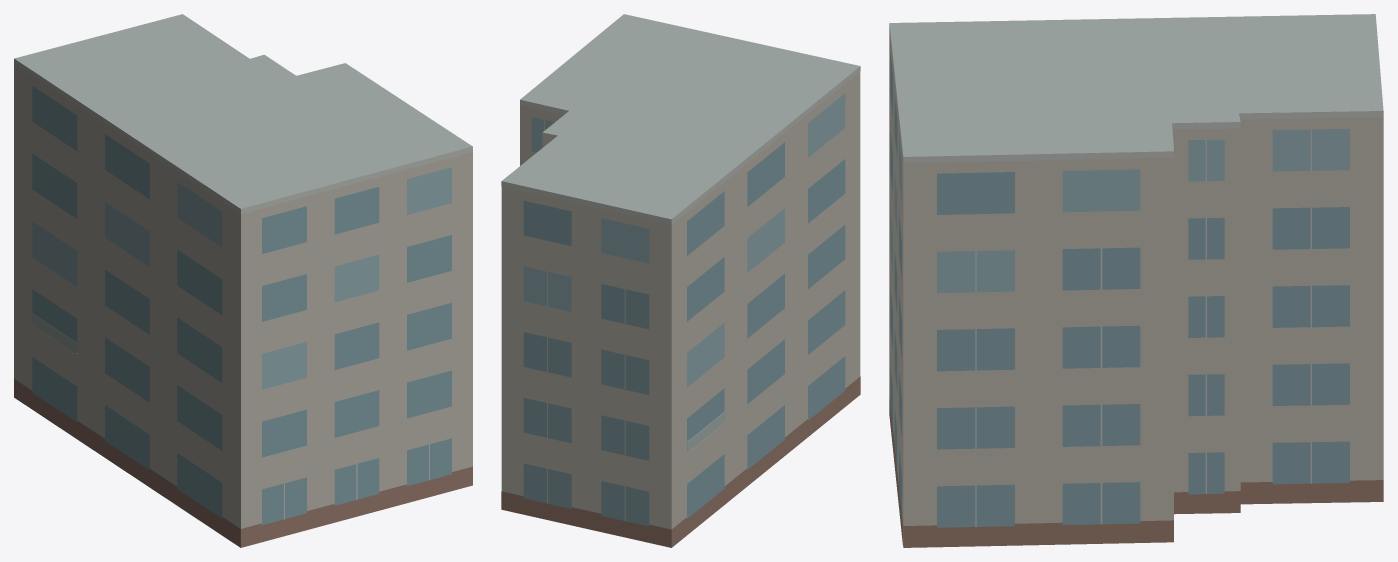
File: survey-upis-32705616.glb
The picture shows the model from 3 angles, left to right: view 1: azimuth 30°, elevation 25°; view 2: azimuth 150°, elevation 25°; view 3: azimuth 270°, elevation 25°; orthographic projection. The views are drawn at different scales.
Parts seen in each view (by area): view 1: survey-upis-32705616.tmp; view 2: survey-upis-32705616.tmp; view 3: survey-upis-32705616.tmp.
Boxes of the visible parts, x1=… form: survey-upis-32705616.tmp: x1=14, y1=14, x2=472, y2=547; survey-upis-32705616.tmp: x1=501, y1=14, x2=860, y2=547; survey-upis-32705616.tmp: x1=889, y1=14, x2=1383, y2=547.
Bounding box in the file's own units: 11.97 × 15.25 × 17.48.
